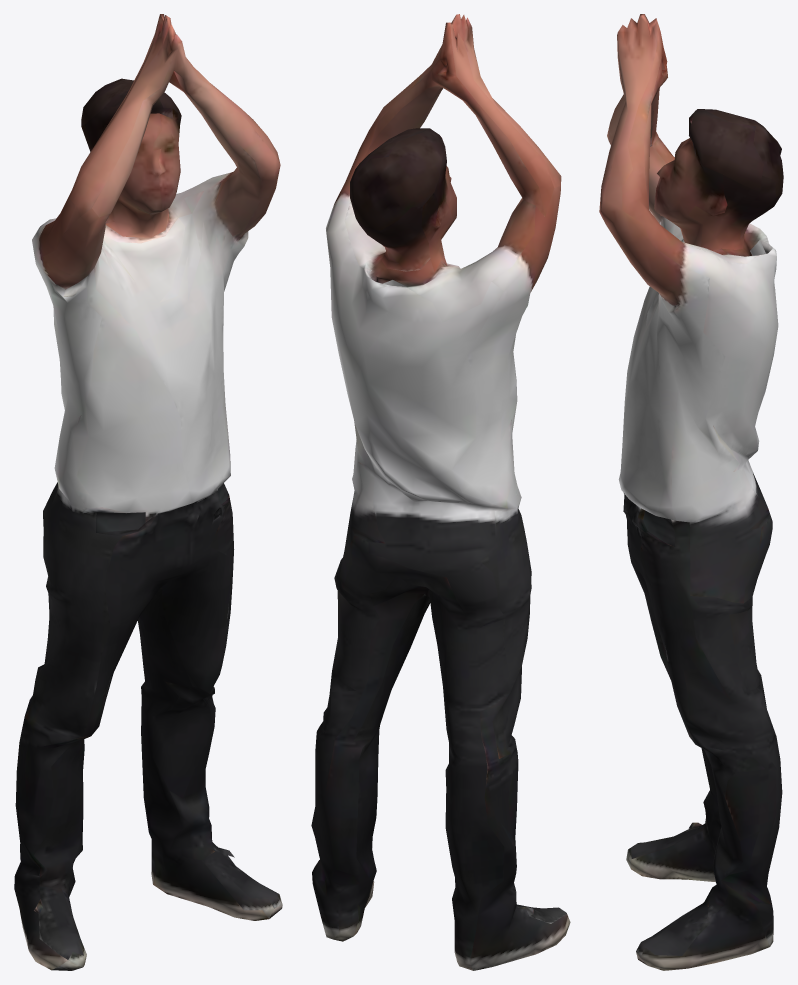
File: fan-m-clap-s2.lo.glb
3 renders of one model, left to right at view 1: azimuth 30°, elevation 25°; view 2: azimuth 150°, elevation 25°; view 3: azimuth 270°, elevation 25°, orthographic. The views are drawn at different scales.
Visible parts, largest first — view 1: geometry_0; view 2: geometry_0; view 3: geometry_0.
Boxes of the visible parts, box(x1,y1,x2,y2) form: geometry_0: box(14, 14, 282, 970); geometry_0: box(311, 14, 570, 970); geometry_0: box(599, 14, 783, 970).
Size of the model in its own units: 0.2696 by 0.9993 by 0.1851.
1 material, 1 textured.
